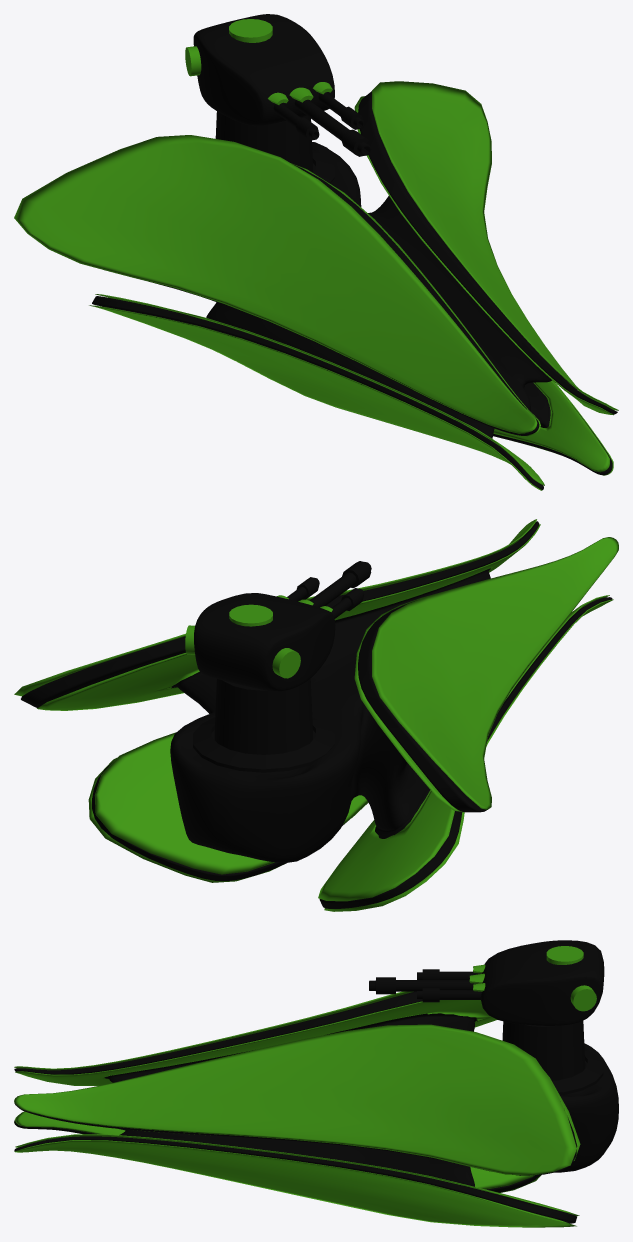
File: Fighter_Green.FBX
3 renders of one model, top to bottom at view 1: azimuth 30°, elevation 25°; view 2: azimuth 150°, elevation 25°; view 3: azimuth 270°, elevation 25°, orthographic. The views are drawn at different scales.
Parts seen in each view (by area): view 1: Box041; view 2: Box041; view 3: Box041.
Part boxes in pixels (x1=…): Box041: x1=14, y1=14, x2=618, y2=490; Box041: x1=14, y1=519, x2=618, y2=911; Box041: x1=14, y1=940, x2=618, y2=1227.
Bounding box in the file's own units: 771 × 480 × 1019.
